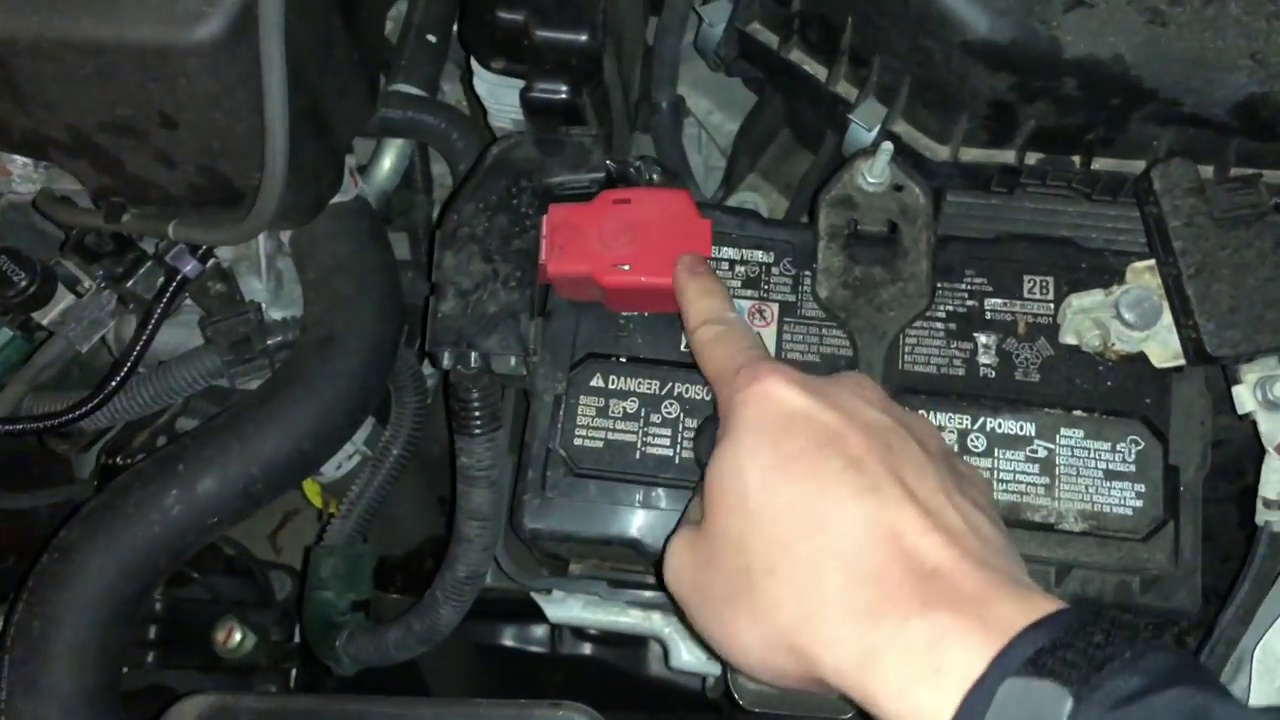battery: (521, 190, 1218, 610)
neg_connected: (1058, 229, 1196, 371)
pos_touched: (511, 153, 816, 419)
